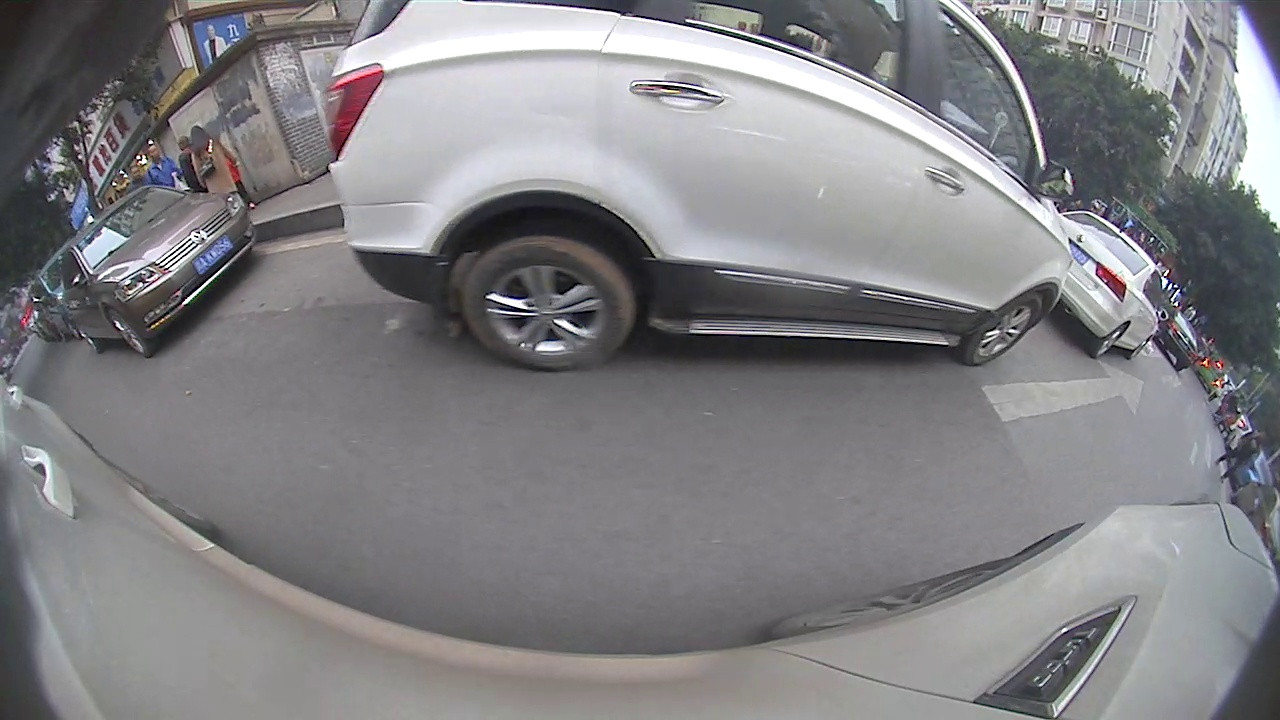car: (322, 1, 1076, 367), (56, 183, 260, 359), (1056, 209, 1170, 363), (27, 238, 81, 343), (1159, 305, 1200, 369)
front: (960, 295, 1052, 370), (105, 306, 150, 360)
person: (188, 127, 220, 193), (146, 143, 171, 193)
rear: (455, 235, 637, 372), (1091, 322, 1131, 361), (74, 326, 102, 356)
